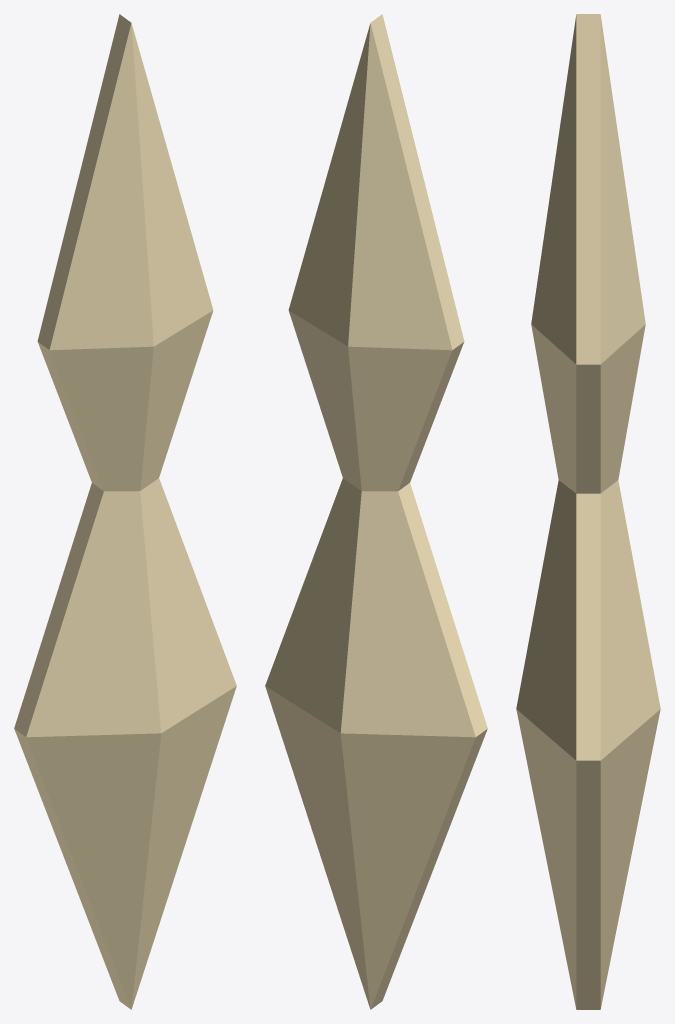
File: inner-Crystal.glb
The picture shows the model from 3 angles, left to right: view 1: azimuth 30°, elevation 25°; view 2: azimuth 150°, elevation 25°; view 3: azimuth 270°, elevation 25°; orthographic projection.
Visible parts, largest first — view 1: Crystal; view 2: Crystal; view 3: Crystal.
Part boxes in pixels (x1,y1,x2,y2): Crystal: (14,14,236,1009); Crystal: (265,14,487,1009); Crystal: (516,14,660,1009).
Bounding box in the file's own units: 0.5062 × 2.27 × 0.2979.
